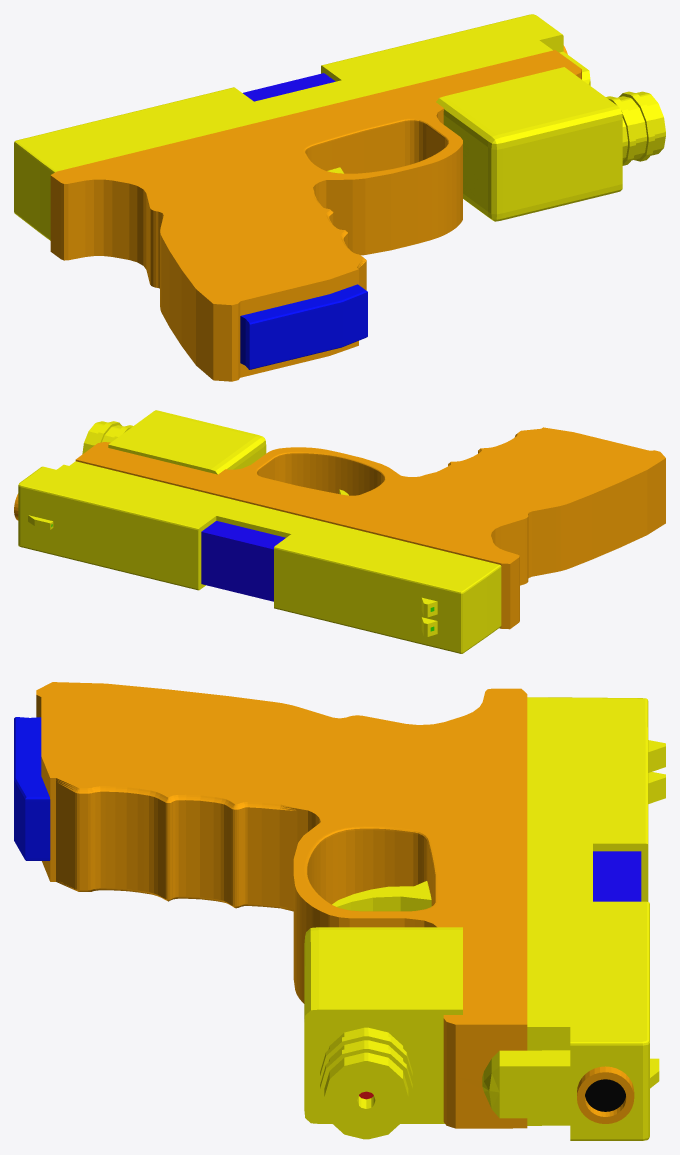
File: PistolaFinalJuguete.fbx
3 renders of one model, top to bottom at view 1: azimuth 30°, elevation 25°; view 2: azimuth 150°, elevation 25°; view 3: azimuth 270°, elevation 25°, orthographic. The views are drawn at different scales.
Visible parts, largest first — view 1: ParteFija, MiraLaser, Tambor, Cargador; view 2: ParteFija, Tambor, MiraLaser; view 3: ParteFija, Tambor, MiraLaser, Cargador, Canon, Gatillo.
Part boxes in pixels (<box>): ParteFija: <box>50,50,581,381</box>; MiraLaser: <box>436,67,665,221</box>; Tambor: <box>14,14,590,240</box>; Cargador: <box>240,284,367,369</box>; ParteFija: <box>75,427,665,629</box>; Tambor: <box>18,461,501,653</box>; MiraLaser: <box>82,410,266,474</box>; ParteFija: <box>36,682,641,1128</box>; Tambor: <box>482,697,665,1140</box>; MiraLaser: <box>304,927,462,1139</box>; Cargador: <box>14,717,50,860</box>; Canon: <box>577,1066,634,1123</box>; Gatillo: <box>332,881,431,911</box>.
Bounding box in the file's own units: 151 × 23.76 × 114.
